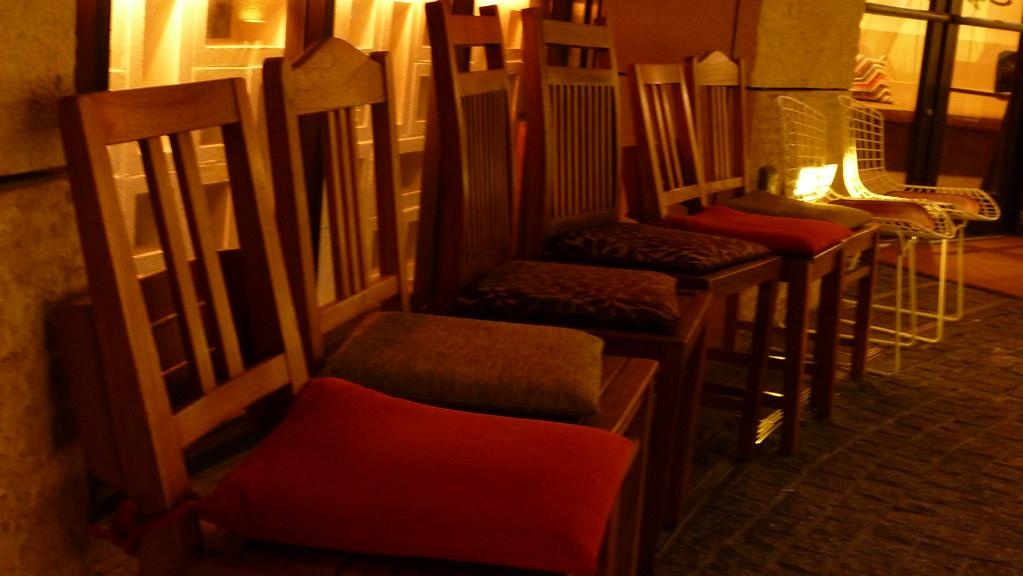chair: (55, 75, 658, 576), (420, 2, 716, 529), (517, 7, 784, 460), (633, 51, 882, 454), (775, 93, 942, 375), (837, 94, 1001, 344)
